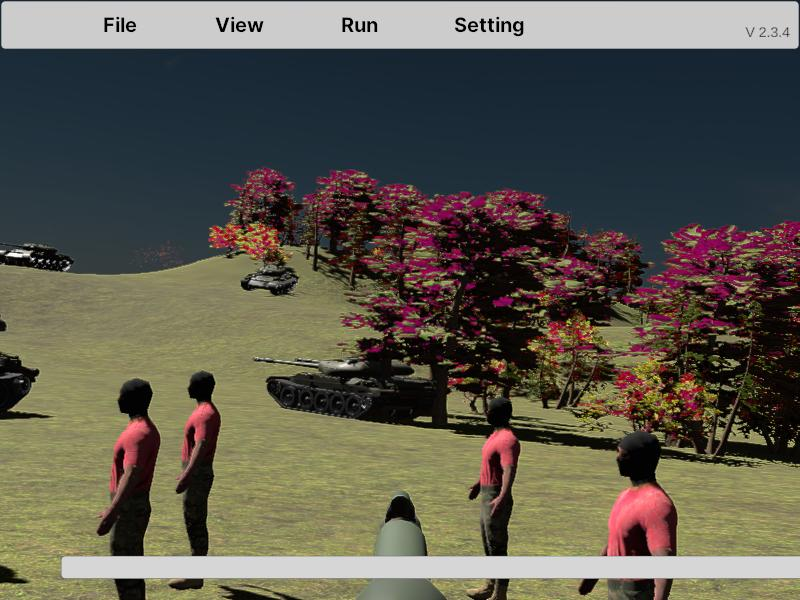Human: (580, 429, 679, 600), (98, 376, 160, 600), (170, 369, 220, 589), (468, 394, 520, 600)
Tank: (251, 353, 437, 424), (0, 303, 40, 423), (1, 241, 74, 273), (241, 261, 299, 295)
